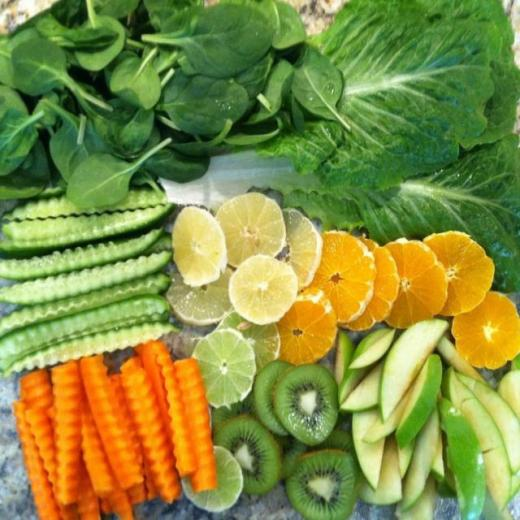Grape: (446, 294, 514, 362)
